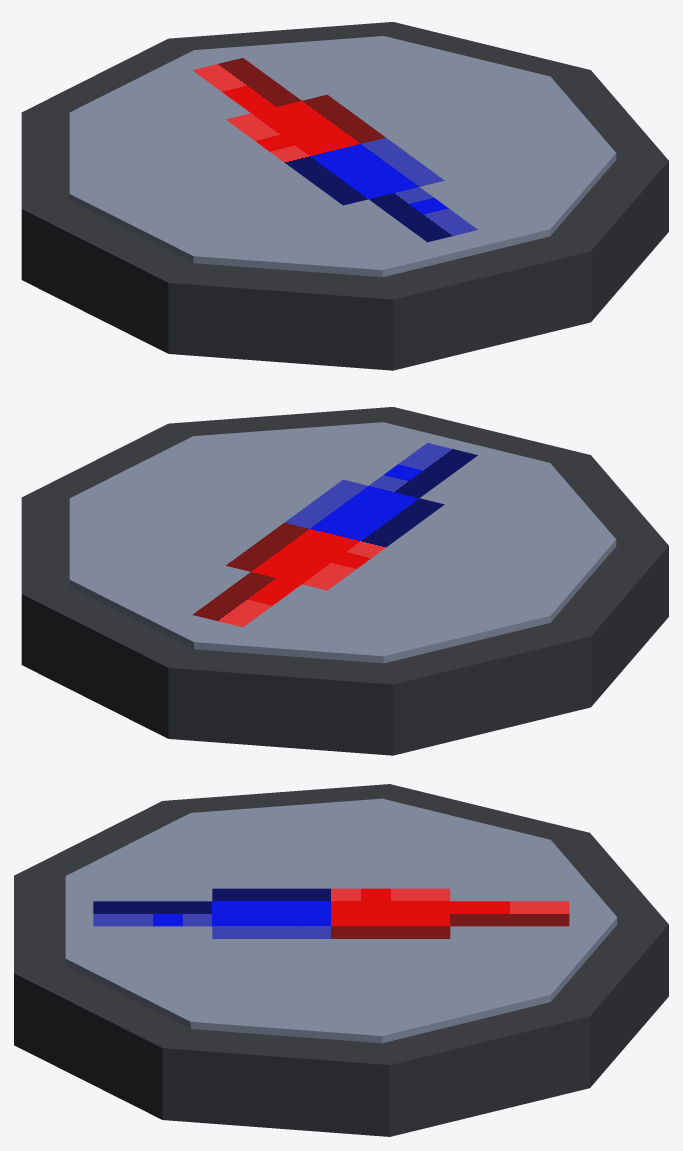
Rendered from Compass.gltf.
The picture shows the model from 3 angles, top to bottom: view 1: azimuth 30°, elevation 25°; view 2: azimuth 150°, elevation 25°; view 3: azimuth 270°, elevation 25°; orthographic projection.
Visible parts, largest first — view 1: CompassPlate2, CompassPlate, CompassPointer; view 2: CompassPlate2, CompassPlate, CompassPointer; view 3: CompassPlate2, CompassPlate, CompassPointer.
Boxes of the visible parts, bbox=[...] form: CompassPlate2: bbox=[69, 36, 616, 277]; CompassPlate: bbox=[21, 22, 668, 370]; CompassPointer: bbox=[192, 58, 477, 242]; CompassPlate2: bbox=[69, 422, 616, 663]; CompassPlate: bbox=[21, 407, 668, 755]; CompassPointer: bbox=[192, 443, 477, 627]; CompassPlate2: bbox=[65, 798, 617, 1043]; CompassPlate: bbox=[14, 784, 668, 1136]; CompassPointer: bbox=[93, 888, 569, 938].
Size of the model in its own units: 0.524 by 0.0719 by 0.516.
3 materials, 3 textured.
